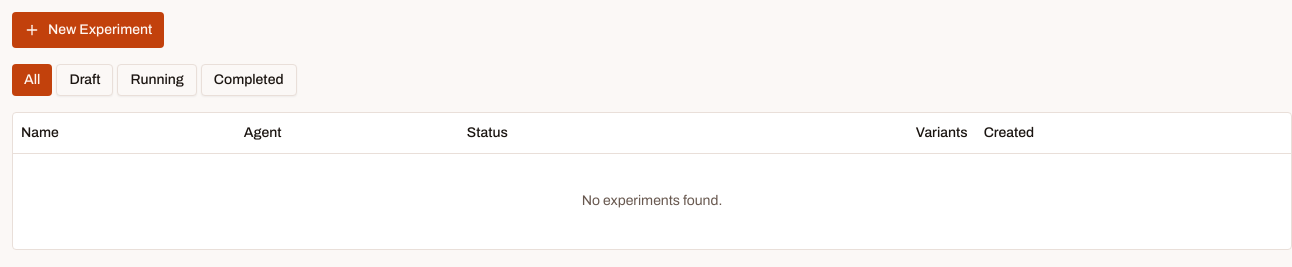
ExperimentsList › Filter-aware empty state › shows filter-specific message when a status filter is active
Click the button "Draft" at (85, 80), box x1=56 y1=64 x2=113 y2=96
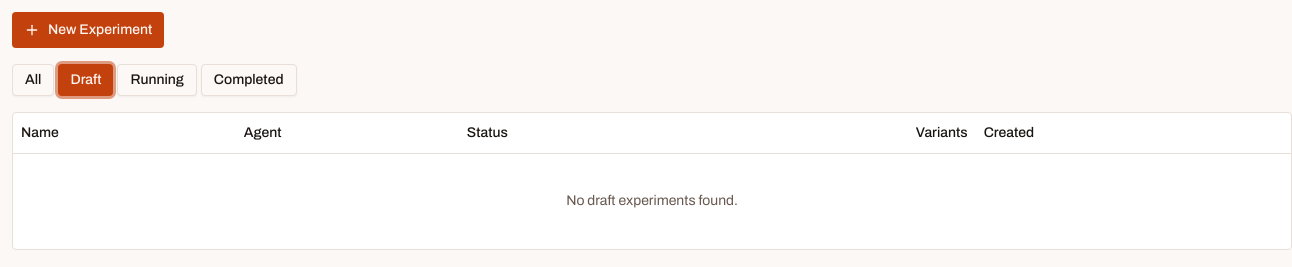
Now the text "No draft experiments found." is shown, box x1=13 y1=153 x2=1291 y2=249
